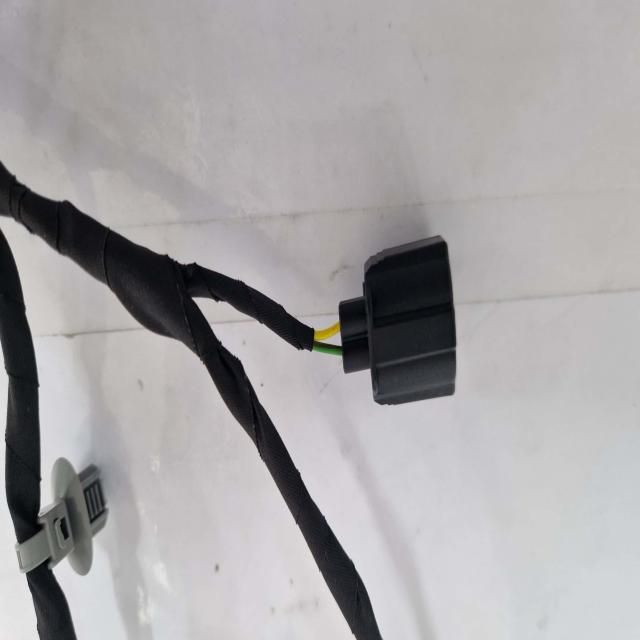Clip: (15, 462, 108, 582)
Connector: (340, 239, 455, 406)
Gape: (308, 312, 350, 371)
MHEV_N11_Cable: (4, 173, 374, 621), (3, 254, 40, 553), (28, 585, 69, 638)
